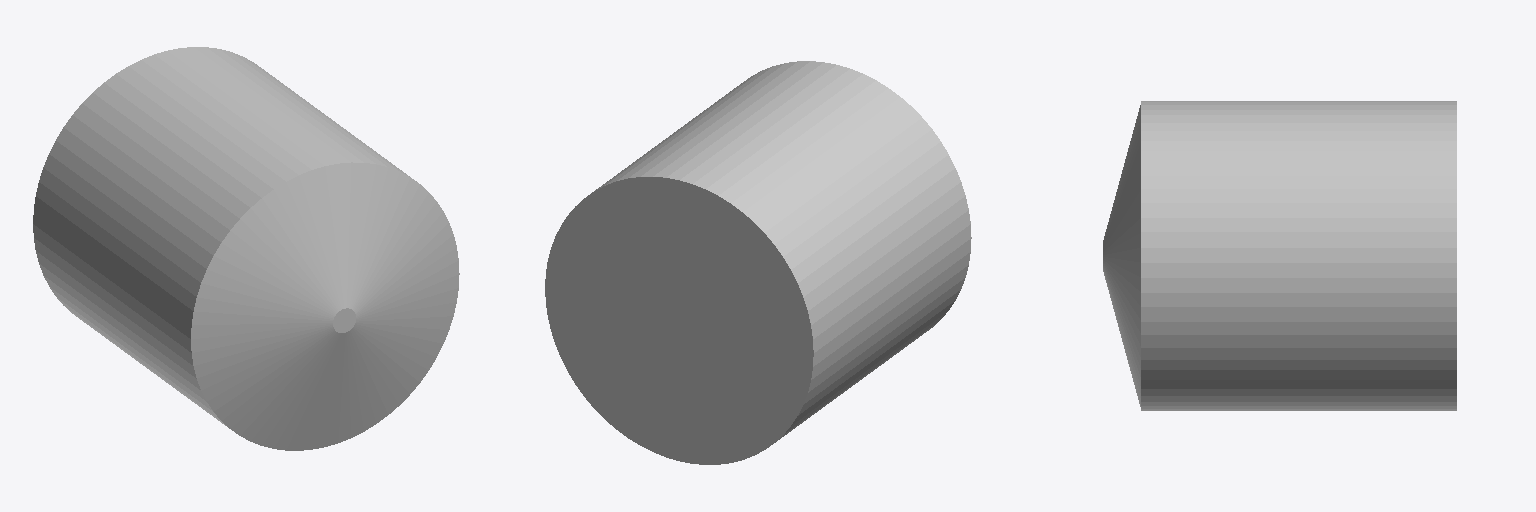
Rendered from Candle6b.obj.
3 views of the same model, side by side, from view 1: azimuth 30°, elevation 25°; view 2: azimuth 150°, elevation 25°; view 3: azimuth 270°, elevation 25° (orthographic).
Parts seen in each view (by area): view 1: Candle6b_Cylinder.015; view 2: Candle6b_Cylinder.015; view 3: Candle6b_Cylinder.015.
Part boxes in pixels (bbox=[...]): Candle6b_Cylinder.015: bbox=[33, 47, 459, 450]; Candle6b_Cylinder.015: bbox=[545, 61, 971, 464]; Candle6b_Cylinder.015: bbox=[1103, 101, 1456, 410].
Bounding box in the file's own units: 0.0943 × 0.0943 × 0.1078.